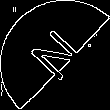N_SE: (22, 23, 88, 87)
